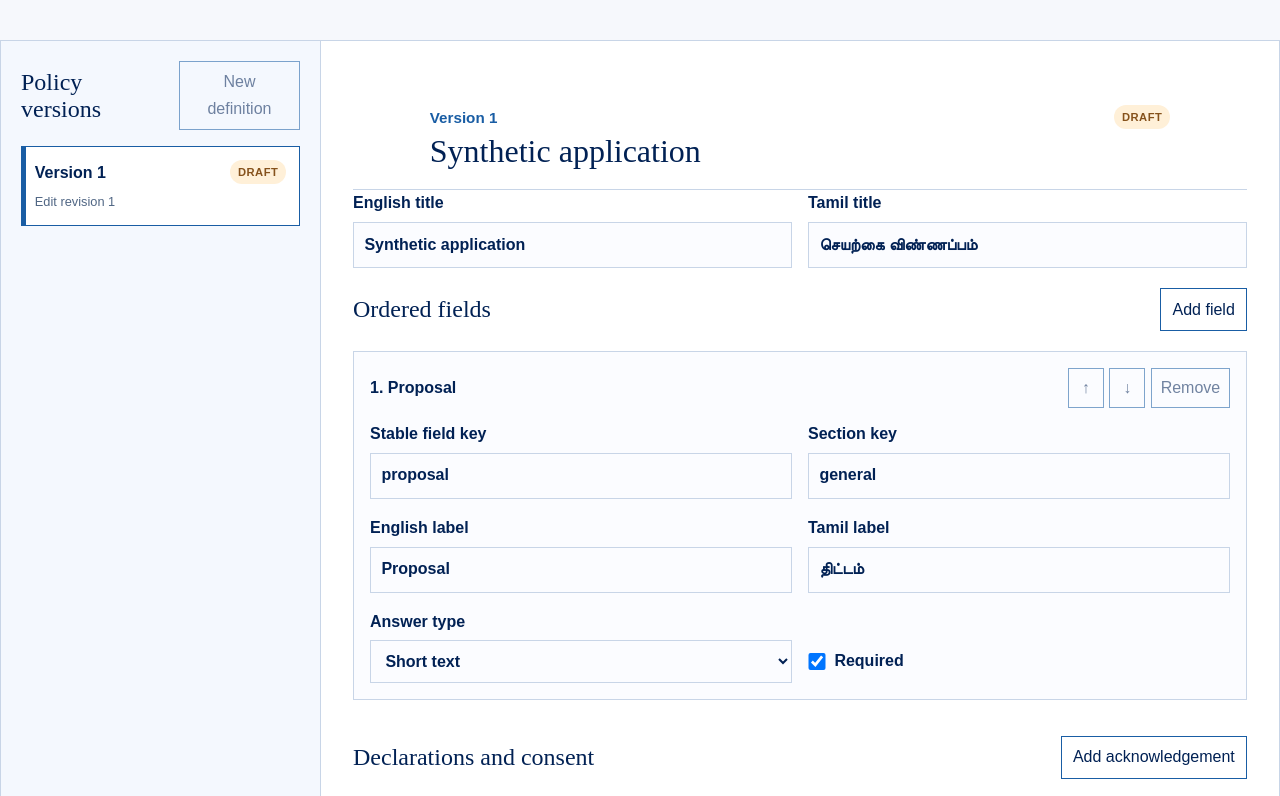
it: application definition requirements and recovery › keeps a confirmed save when only the later version-list refresh fails
Replace the text in the field labelled "English title" with "Confirmed title": (572, 245) [353,222,792,268]
(page scrolled)
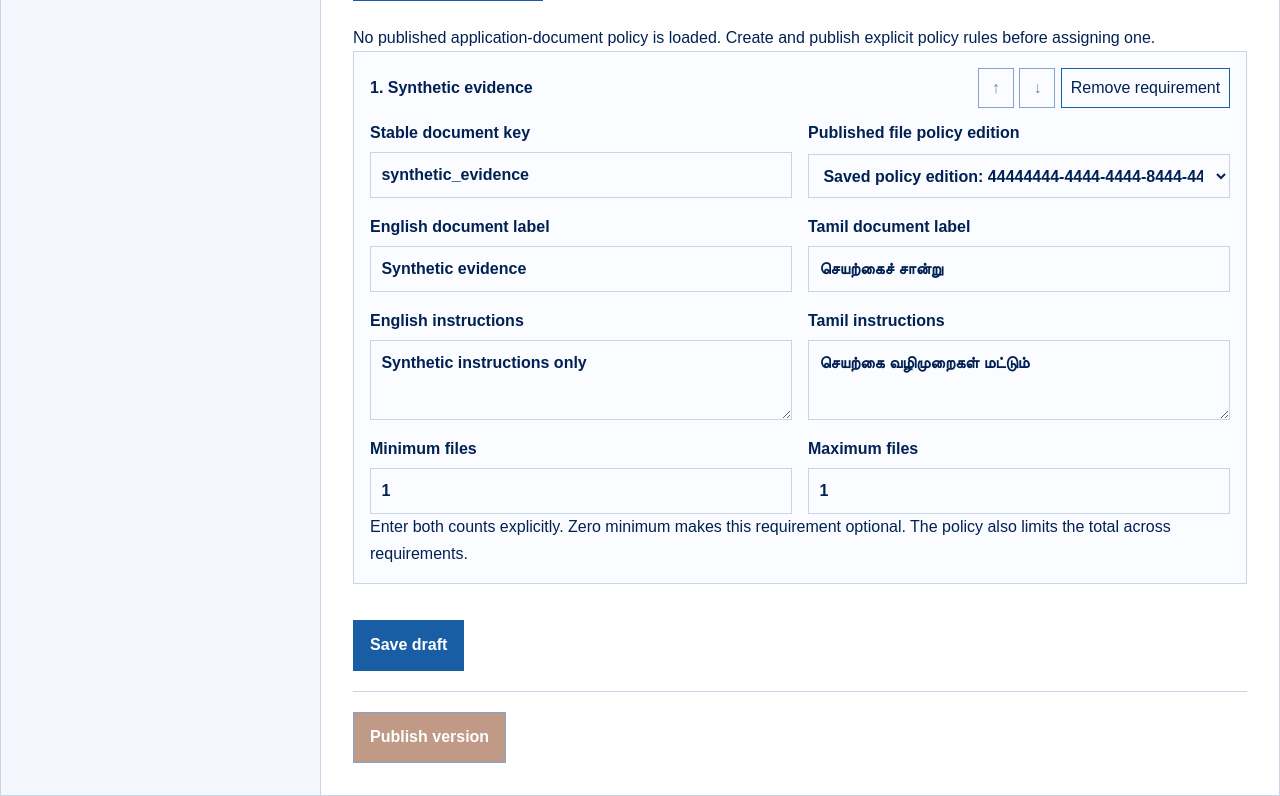
Click the button "Save draft": (409, 646) [353,620,464,671]
(page scrolled)
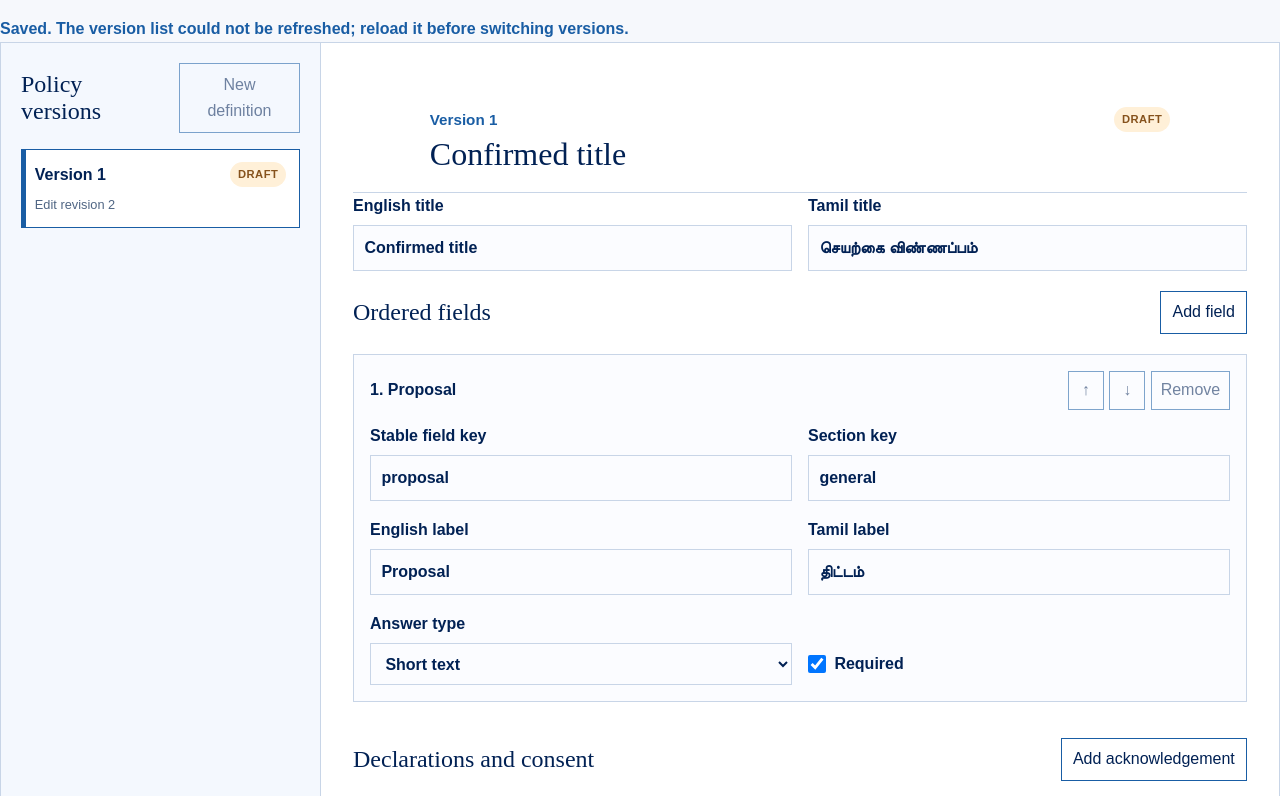
Result: the text "Saved. The version list could not be refreshed; reload it before switching versions." is shown at [0,20,629,37]
